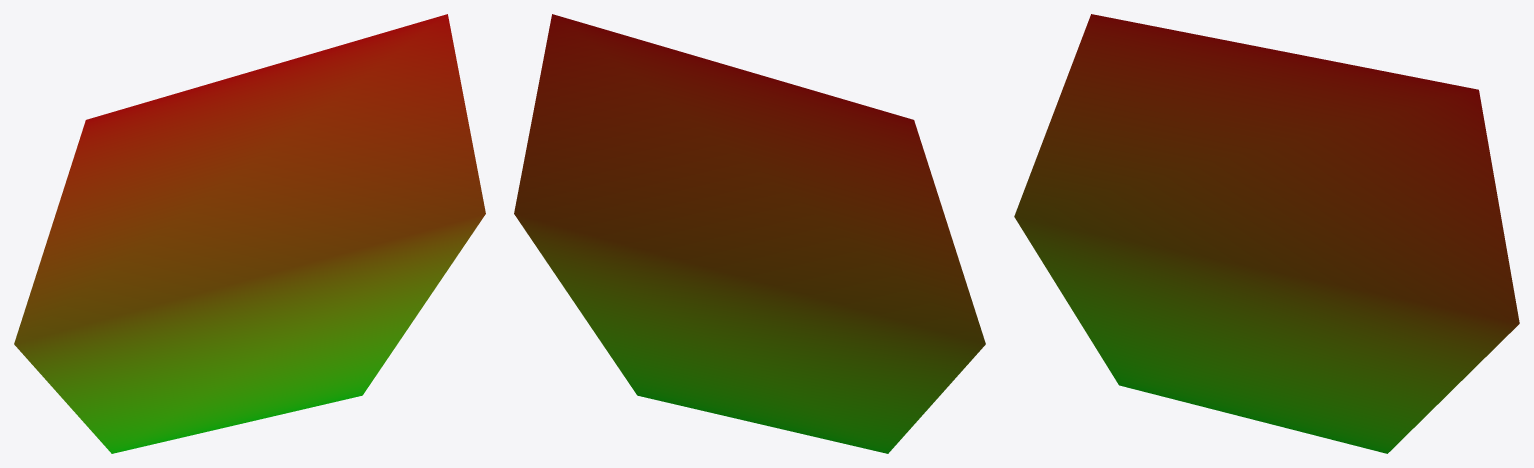
Rendered from Var5_LOD5.fbx.
3 views of the same model, side by side, from view 1: azimuth 30°, elevation 25°; view 2: azimuth 150°, elevation 25°; view 3: azimuth 330°, elevation 25° (orthographic). The views are drawn at different scales.
Parts seen in each view (by area): view 1: _2rtp_Var5_LOD5; view 2: _2rtp_Var5_LOD5; view 3: _2rtp_Var5_LOD5.
Part boxes in pixels (x1,y1,x2,y2): _2rtp_Var5_LOD5: (14, 14, 485, 453); _2rtp_Var5_LOD5: (514, 14, 985, 453); _2rtp_Var5_LOD5: (1014, 14, 1519, 453).
Bounding box in the file's own units: 30.78 × 22.49 × 2.68e-06.
